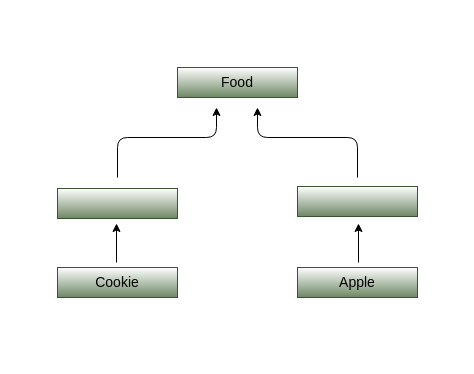
This 474x374 diagram has some shape labels left out. The centre of each missing label's shape, as x and y in pixels:
Fruit: the point at 357,201
Snack: the point at 117,203
